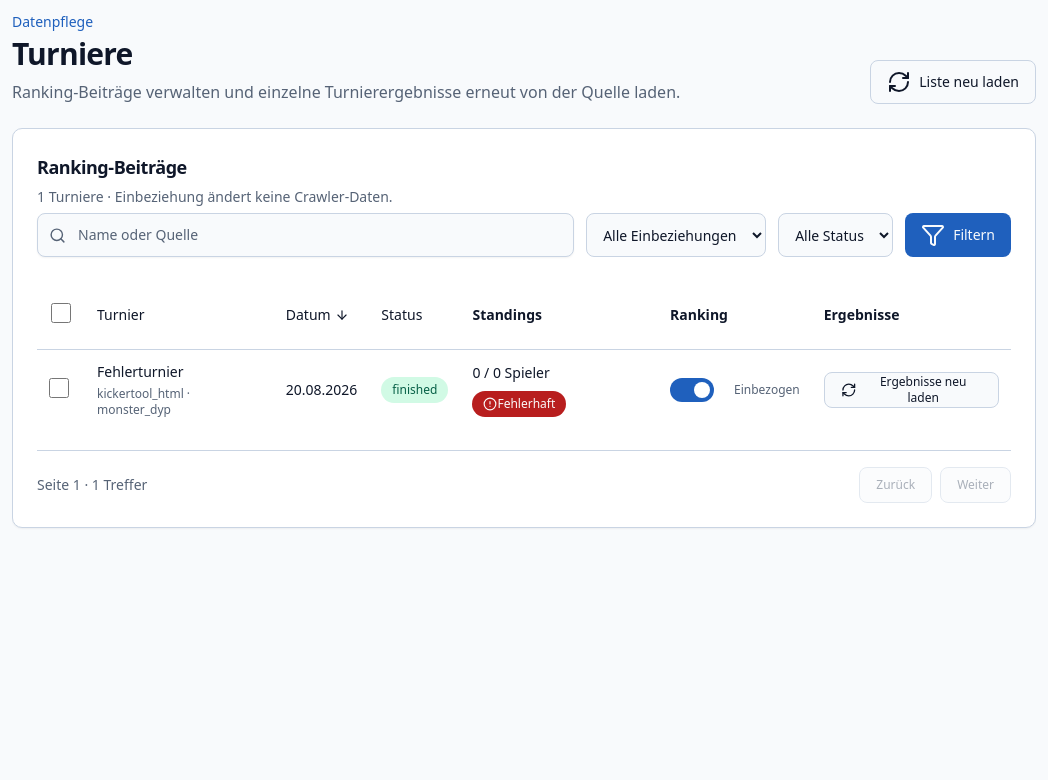
Test: TournamentManagementPage › shows a failed job and permits a successful retry
Click the button with aria-label "Fehlerturnier: Ergebnisse neu laden". click: (911, 390)
box: [824,372,999,408]
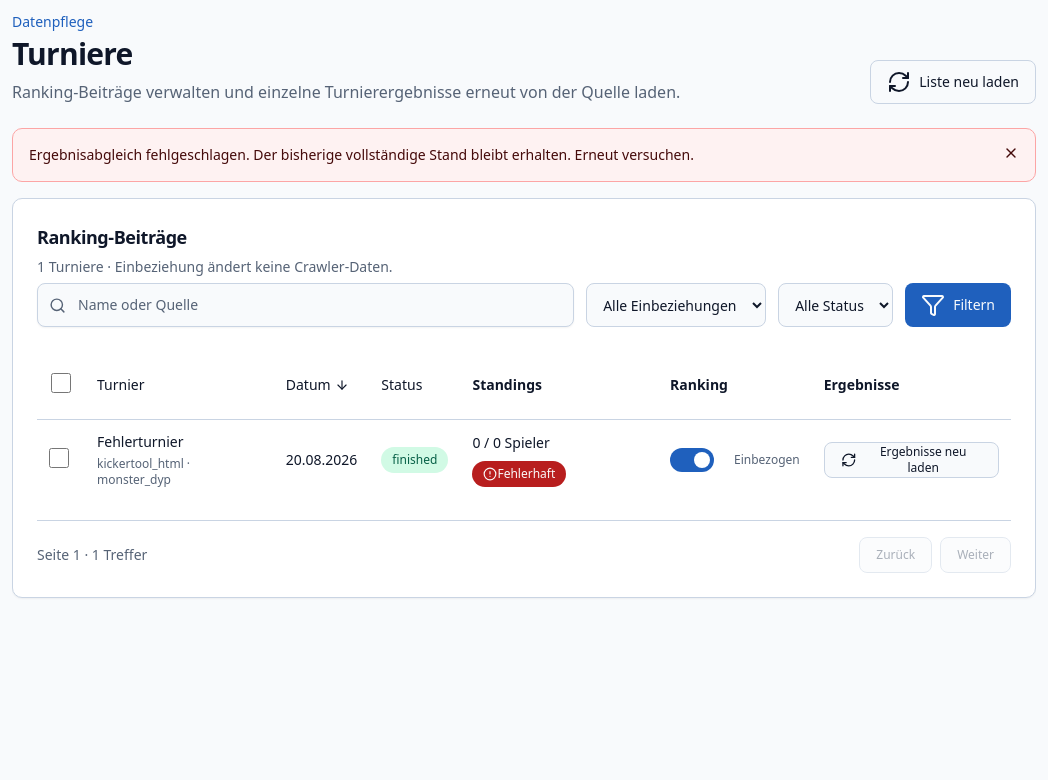
Expected: the text "Der bisherige vollständige Stand bleibt erhalten" is shown, [29,145,694,164]
Click the button with aria-label "Fehlerturnier: Ergebnisse neu laden". click: (911, 460)
box: [824,442,999,478]
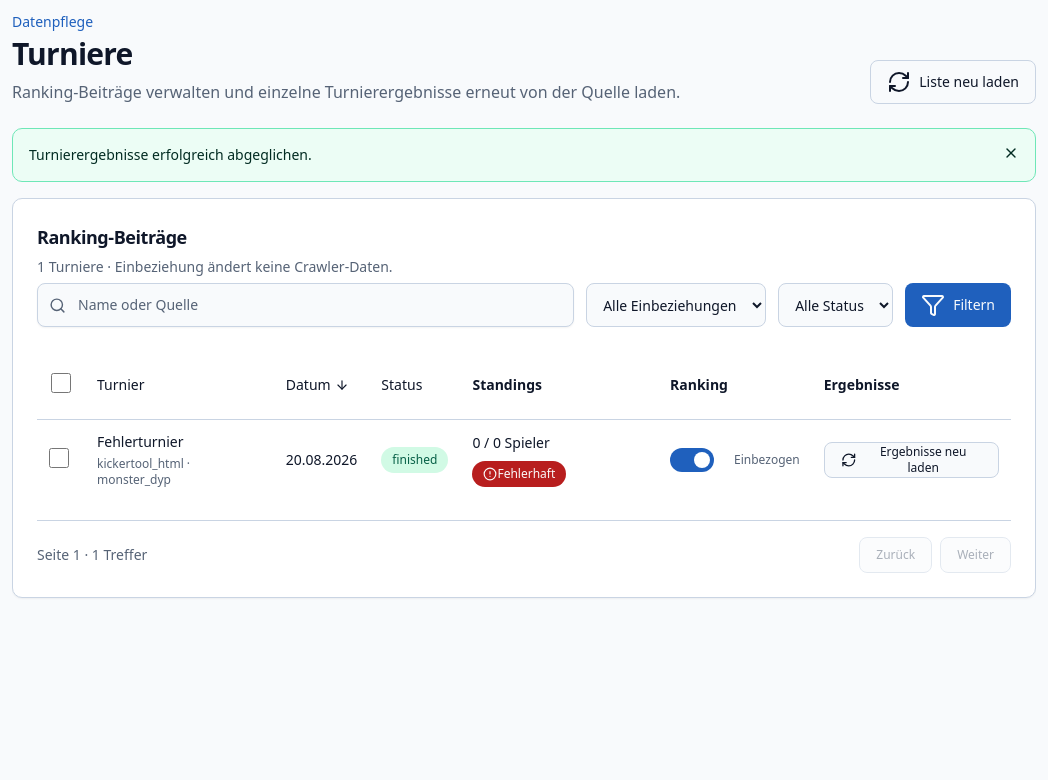
Expected: the text "Turnierergebnisse erfolgreich abgeglichen." is shown, [12,128,1036,182]
